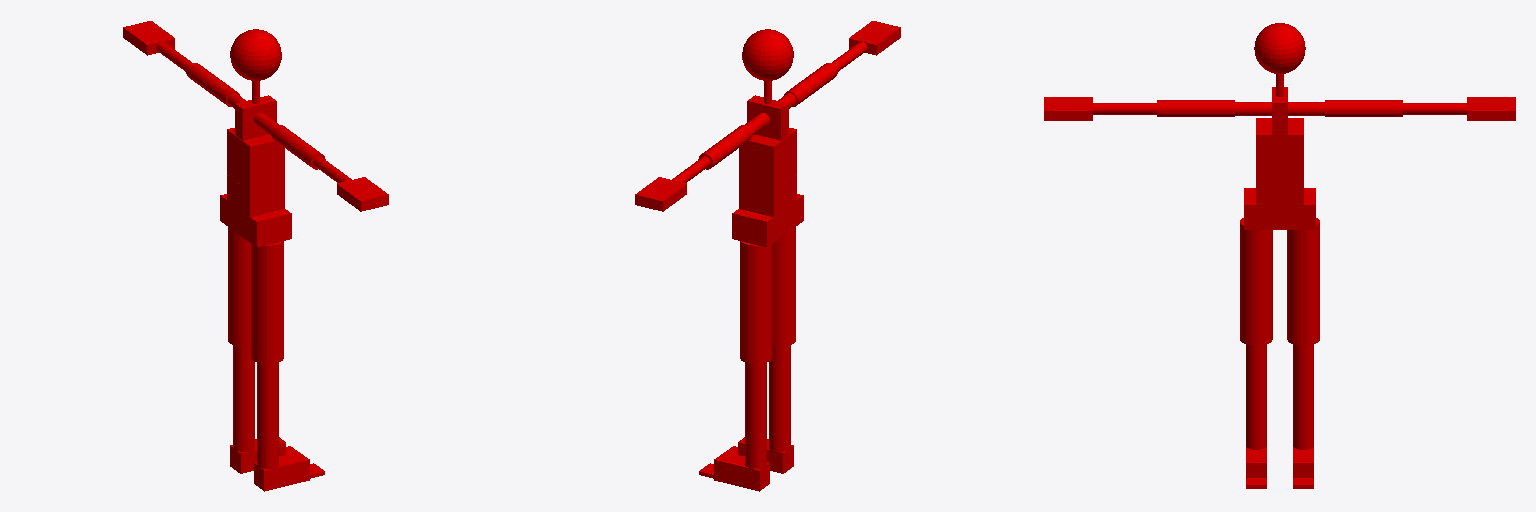
--- What the picture shows (computed from the rendered views, not written in the file) ---
Views: 3 orthographic renders of the robot side by side, from view 1: azimuth 30°, elevation 25°; view 2: azimuth 150°, elevation 25°; view 3: azimuth 270°, elevation 25°.
Robot: humanoid — 51 links, 50 joints (50 fixed); root link Pelvis; default pose: every joint at zero.
Links seen in each view (by area): view 1: RightUpperLeg, LeftUpperLeg, RightLowerLeg, LeftLowerLeg, Head, Pelvis, T12, L5, RightFoot, L3, T8, RightHand (+4 smaller); view 2: LeftUpperLeg, RightUpperLeg, LeftLowerLeg, RightLowerLeg, Head, Pelvis, T12, L5, LeftFoot, L3, T8, LeftHand (+4 smaller); view 3: RightUpperLeg, LeftUpperLeg, Pelvis, RightLowerLeg, LeftLowerLeg, Head, T12, RightUpperArm, LeftUpperArm, L5, RightHand, LeftHand (+6 smaller).
Boxes of the visible links, <box> form: RightUpperLeg: <box>251,241,283,363</box>; LeftUpperLeg: <box>228,227,250,346</box>; RightLowerLeg: <box>257,363,278,468</box>; LeftLowerLeg: <box>233,345,254,451</box>; Head: <box>230,29,281,80</box>; Pelvis: <box>220,194,291,247</box>; T12: <box>227,128,284,169</box>; L5: <box>227,175,284,216</box>; RightFoot: <box>254,452,309,491</box>; L3: <box>227,153,284,191</box>; T8: <box>235,95,276,140</box>; RightHand: <box>337,177,388,211</box>; LeftUpperLeg: <box>740,241,772,363</box>; RightUpperLeg: <box>773,227,795,346</box>; LeftLowerLeg: <box>745,363,766,468</box>; RightLowerLeg: <box>769,345,790,451</box>; Head: <box>742,29,793,80</box>; Pelvis: <box>732,194,803,247</box>; T12: <box>739,128,796,169</box>; L5: <box>739,175,796,216</box>; LeftFoot: <box>714,452,769,491</box>; L3: <box>739,153,796,191</box>; T8: <box>747,95,788,140</box>; LeftHand: <box>635,177,686,211</box>; RightUpperLeg: <box>1240,218,1272,345</box>; LeftUpperLeg: <box>1287,218,1319,345</box>; Pelvis: <box>1244,188,1315,229</box>; RightLowerLeg: <box>1246,345,1266,449</box>; LeftLowerLeg: <box>1293,345,1313,449</box>; Head: <box>1254,23,1305,73</box>; T12: <box>1256,118,1303,156</box>; RightUpperArm: <box>1157,100,1234,116</box>; LeftUpperArm: <box>1325,100,1402,116</box>; L5: <box>1256,180,1303,204</box>; RightHand: <box>1044,97,1092,120</box>; LeftHand: <box>1467,97,1515,120</box>.
Size in the robot's own frame: 0.2938 by 1.63 by 1.69 metres.
Geometry: primitives only (box / cylinder / sphere), no mesh files.

The robot description file, URDF, robot "humanoid":
<robot name="humanoid">

<material name="color">
    <color rgba="0.8980392156862745 0.0 0.0 1.0" />
</material>

<!--To open this model with Gazebo replace the null masses, inertias and dimensions of the 'fake links f1 and f2'-->
    <!--LINKS-->
	<!--Link base (1)-->
	<link name="Pelvis">
        <inertial>
            <mass value="0.04976"/>
			<!--COM origin wrt pHipOrigin-->
            <origin xyz="0           0    0.049743" rpy="0 0 0" />
            <inertia ixx="0.029678" iyy="0.011854" izz="0.033653" ixy="0" ixz="0" iyz="0"/>
        </inertial>

        <visual>
			<!--box origin wrt pHipOrigin-->
            <origin xyz="0           0    0.049743" rpy="0 0 0" />
            <geometry>
                <box size="0.13815     0.24914    0.097469"/>
            </geometry>
            <material name="color"/>
        </visual>

        <collision>
			<!--box origin wrt pHipOrigin-->
            <origin xyz="0           0    0.049743" rpy="0 0 0" />
            <geometry>
                <box size="0.13815     0.24914    0.097469"/>
            </geometry>
        </collision>

    </link>
    <!--Chain from (2) to (7)-->
	<link name="L5_f1">
        <inertial>
            <mass value="0"/>
            <origin xyz="0 0 0" rpy="0 0 0" />
            <inertia ixx="0" iyy="0" izz="0" ixy="0" ixz="0" iyz="0"/>
        </inertial>
    </link>
	<link name="L5">
        <inertial>
            <mass value="0.063444"/>
			<!--COM origin wrt jL5S1-->
            <origin xyz="0           0    0.047552" rpy="0 0 0" />
            <inertia ixx="0.018868" iyy="0.014872" izz="0.024177" ixy="0" ixz="0" iyz="0"/>
        </inertial>

        <visual>
			<!--box origin origin wrt jL5S1-->
            <origin xyz="0           0    0.047552" rpy="0 0 0" />
            <geometry>
                <box size="0.13815     0.16323    0.095104"/>
            </geometry>
            <material name="color"/>
        </visual>

        <collision>
			<!--box origin origin wrt jL5S1-->
            <origin xyz="0           0    0.047552" rpy="0 0 0" />
            <geometry>
                <box size="0.13815     0.16323    0.095104"/>
            </geometry>
        </collision>
    </link>
	<link name="L3_f1">
        <inertial>
            <mass value="0"/>
            <origin xyz="0 0 0" rpy="0 0 0" />
            <inertia ixx="0" iyy="0" izz="0" ixy="0" ixz="0" iyz="0"/>
        </inertial>
    </link>
	<link name="L3">
        <inertial>
            <mass value="0.063444"/>
			<!--COM origin wrt jL4L3-->
            <origin xyz="0           0    0.042958" rpy="0 0 0" />
            <inertia ixx="0.017989" iyy="0.013993" izz="0.024177" ixy="0" ixz="0" iyz="0"/>
        </inertial>

        <visual>
			<!--box origin origin wrt jL4L3-->
            <origin xyz="0           0    0.042958" rpy="0 0 0" />
            <geometry>
                <box size="0.13815     0.16323    0.085916"/>
            </geometry>
            <material name="color"/>
        </visual>

        <collision>
			<!--box origin origin wrt jL4L3-->
            <origin xyz="0           0    0.042958" rpy="0 0 0" />
            <geometry>
                <box size="0.13815     0.16323    0.085916"/>
            </geometry>
        </collision>
    </link>
	<link name="T12_f1">
        <inertial>
            <mass value="0"/>
            <origin xyz="0 0 0" rpy="0 0 0" />
            <inertia ixx="0" iyy="0" izz="0" ixy="0" ixz="0" iyz="0"/>
        </inertial>
    </link>
	<link name="T12">
        <inertial>
            <mass value="0.063444"/>
			<!--COM origin wrt jL1T12-->
            <origin xyz="0           0    0.042958" rpy="0 0 0" />
            <inertia ixx="0.017989" iyy="0.013993" izz="0.024177" ixy="0" ixz="0" iyz="0"/>
        </inertial>

        <visual>
			<!--box origin origin wrt jL1T12-->
            <origin xyz="0           0    0.042958" rpy="0 0 0" />
            <geometry>
                <box size="0.13815     0.16323    0.085916"/>
            </geometry>
            <material name="color"/>
        </visual>

        <collision>
			<!--box origin origin wrt jL1T12-->
            <origin xyz="0           0    0.042958" rpy="0 0 0" />
            <geometry>
                <box size="0.13815     0.16323    0.085916"/>
            </geometry>
        </collision>
    </link>
	<link name="T8_f1">
        <inertial>
            <mass value="0"/>
            <origin xyz="0 0 0" rpy="0 0 0" />
            <inertia ixx="0" iyy="0" izz="0" ixy="0" ixz="0" iyz="0"/>
        </inertial>
    </link>
	<link name="T8_f2">
        <inertial>
            <mass value="0"/>
            <origin xyz="0 0 0" rpy="0 0 0" />
            <inertia ixx="0" iyy="0" izz="0" ixy="0" ixz="0" iyz="0"/>
        </inertial>
    </link>
	<link name="T8">
        <inertial>
            <mass value="0.02488"/>
			<!--COM origin wrt jT9T8-->
            <origin xyz="0           0    0.059874" rpy="0 0 0" />
            <inertia ixx="0.0035473" iyy="0.0067278" izz="0.0043289" ixy="0" ixz="0" iyz="0"/>
        </inertial>

        <visual>
			<!--box origin wrt jT9T8-->
            <origin xyz="0           0    0.059874" rpy="0 0 0" />
            <geometry>
                <box size="0.13457    0.052626     0.11975"/>
            </geometry>
            <material name="color"/>
        </visual>

        <collision>
			<!--box origin wrt jT9T8-->
            <origin xyz="0           0    0.059874" rpy="0 0 0" />
            <geometry>
                <box size="0.13457    0.052626     0.11975"/>
            </geometry>
        </collision>

    </link>
	<link name="Neck_f1">
        <inertial>
            <mass value="0"/>
            <origin xyz="0 0 0" rpy="0 0 0" />
            <inertia ixx="0" iyy="0" izz="0" ixy="0" ixz="0" iyz="0"/>
        </inertial>
    </link>
	<link name="Neck_f2">
        <inertial>
            <mass value="0"/>
            <origin xyz="0 0 0" rpy="0 0 0" />
            <inertia ixx="0" iyy="0" izz="0" ixy="0" ixz="0" iyz="0"/>
        </inertial>
    </link>
	<link name="Neck">
        <inertial>
            <mass value="0.007464"/>
			<!--COM origin wrt jT1C7-->
            <origin xyz="0           0    0.044626" rpy="0 0 0" />
            <inertia ixx="0.0006461" iyy="0.0006461" izz="0.00030124" ixy="0" ixz="0" iyz="0"/>
        </inertial>

        <visual>
			<!--box origin wrt jT1C7-->
            <origin xyz="0           0    0.044626" rpy="0 0 0" />
            <geometry>
		<cylinder length="0.089252" radius="0.014205"/>
            </geometry>
            <material name="color"/>
        </visual>

        <collision>
			<!--box origin wrt jT1C7-->
            <origin xyz="0           0    0.044626" rpy="0 0 0" />
            <geometry>
                <cylinder length="0.089252" radius="0.014205"/>
            </geometry>
        </collision>
    </link>
	<link name="Head_f1">
        <inertial>
            <mass value="0"/>
            <origin xyz="0 0 0" rpy="0 0 0" />
            <inertia ixx="0" iyy="0" izz="0" ixy="0" ixz="0" iyz="0"/>
        </inertial>
    </link>
	<link name="Head">
        <inertial>
            <mass value="0.022392"/>
			<!--COM origin wrt jC1Head-->
            <origin xyz="0           0    0.089005" rpy="0 0 0" />
            <inertia ixx="0.0070955" iyy="0.0070955" izz="0.0070955" ixy="0" ixz="0" iyz="0"/>
        </inertial>

        <visual>
			<!--boc origin wrt jC1Head-->
            <origin xyz="0           0    0.089005" rpy="0 0 0" />
            <geometry>
                <sphere radius="0.089005"/>
            </geometry>
            <material name="color"/>
        </visual>

        <collision>
			<!--box origin wrt jC1Head-->
            <origin xyz="0           0    0.089005" rpy="0 0 0" />
            <geometry>
                <sphere radius="0.089005"/>
            </geometry>
        </collision>

    </link>
	<!--Chain from (8) to (11)-->
	<link name="RightShoulder">
        <inertial>
            <mass value="0.019282"/>
			<!--COM origin wrt jRightC7Shoulder-->
            <origin xyz="0   -0.065233           0" rpy="0 0 0" />
            <inertia ixx="0.0030029" iyy="0.00053578" izz="0.0030029" ixy="0" ixz="0" iyz="0"/>
        </inertial>

        <visual>
			<!--box origin wrt jRightC7Shoulder. RPY rotated of pi/2.-->
            <origin xyz="0   -0.065233           0" rpy="1.5708 0 0" />
            <geometry>
                <cylinder length="0.13047" radius="0.023574"/>
            </geometry>
            <material name="color"/>
        </visual>

        <collision>
			<!--box origin wrt jRightC7Shoulder. RPY rotated of pi/2.-->
            <origin xyz="0   -0.065233           0" rpy="1.5708 0 0" />
            <geometry>
                <cylinder length="0.13047" radius="0.023574"/>
            </geometry>
        </collision>

    </link>
	<link name="RightUpperArm_f1">
        <inertial>
            <mass value="0"/>
            <origin xyz="0 0 0" rpy="0 0 0" />
            <inertia ixx="0" iyy="0" izz="0" ixy="0" ixz="0" iyz="0"/>
        </inertial>
    </link>
	<link name="RightUpperArm_f2">
        <inertial>
            <mass value="0"/>
            <origin xyz="0 0 0" rpy="0 0 0" />
            <inertia ixx="0" iyy="0" izz="0" ixy="0" ixz="0" iyz="0"/>
        </inertial>
    </link>
    <link name="RightUpperArm">
        <inertial>
            <mass value="0.01866"/>
			<!--COM origin wrt jRightShoulder-->
            <origin xyz="0    -0.13497           0" rpy="0 0 0" />
            <inertia ixx="0.011736" iyy="0.00080917" izz="0.011736" ixy="0" ixz="0" iyz="0"/>
        </inertial>

        <visual>
			<!--box origin wrt jRightShoulder. RPY rotated of pi/2.-->
            <origin xyz="0    -0.13497           0" rpy="1.5708 0 0" />
            <geometry>
                <cylinder length="0.26994" radius="0.029449"/>
            </geometry>
            <material name="color"/>
        </visual>

        <collision>
			<!--box origin wrt jRightShoulder. RPY rotated of pi/2.-->
            <origin xyz="0    -0.13497           0" rpy="1.5708 0 0" />
            <geometry>
                <cylinder length="0.26994" radius="0.029449"/>
            </geometry>
        </collision>

    </link>
	<link name="RightForeArm_f1">
        <inertial>
            <mass value="0"/>
            <origin xyz="0 0 0" rpy="0 0 0" />
            <inertia ixx="0" iyy="0" izz="0" ixy="0" ixz="0" iyz="0"/>
        </inertial>
    </link>
	<link name="RightForeArm">
        <inertial>
            <mass value="0.01244"/>
			<!--COM origin wrt jRightElbow-->
            <origin xyz="0    -0.11124           0" rpy="0 0 0" />
            <inertia ixx="0.0052508" iyy="0.00023975" izz="0.0052508" ixy="0" ixz="0" iyz="0"/>
        </inertial>

        <visual>
			<!--box origin wrt jRightElbow. RPY rotated of pi/2.-->
            <origin xyz="0    -0.11124           0" rpy="1.5708 0 0" />
            <geometry>
                <cylinder length="0.22247" radius="0.019633"/>
            </geometry>
            <material name="color"/>
        </visual>

        <collision>
			<!--box origin wrt jRightElbow. RPY rotated of pi/2.-->
            <origin xyz="0    -0.11124           0" rpy="1.5708 0 0" />
            <geometry>
                <cylinder length="0.22247" radius="0.019633"/>
            </geometry>
        </collision>

    </link>
	<link name="RightHand_f1">
        <inertial>
            <mass value="0"/>
            <origin xyz="0 0 0" rpy="0 0 0" />
            <inertia ixx="0" iyy="0" izz="0" ixy="0" ixz="0" iyz="0"/>
        </inertial>
    </link>
	<link name="RightHand">
        <inertial>
            <mass value="0.003732"/>
			<!--COM origin wrt jRightWrist-->
            <origin xyz="0   -0.083588           0" rpy="0 0 0" />
            <inertia ixx="0.00091713" iyy="0.00043425" izz="0.0012555" ixy="0" ixz="0" iyz="0"/>
        </inertial>

        <visual>
			<!--box origin wrt jRightWrist-->
            <origin xyz="0   -0.083588           0" rpy="0 0 0" />
            <geometry>
                <box size="0.11145     0.16718    0.039266"/>
            </geometry>
            <material name="color"/>
        </visual>

        <collision>
			<!--box origin wrt jRightWrist-->
            <origin xyz="0   -0.083588           0" rpy="0 0 0" />
            <geometry>
                <box size="0.11145     0.16718    0.039266"/>
            </geometry>
        </collision>

    </link>
    <link name="RightHandCOM">
        <inertial>
            <mass value="0.0000001"/>
            <origin xyz="0 0 0" rpy="0 0 0" />
            <inertia ixx="0" iyy="0" izz="0" ixy="0" ixz="0" iyz="0"/>
        </inertial>
        <visual>
            <!--box origin wrt jRightWrist-->
            <origin xyz="0   0           0" rpy="0 0 0" />
            <geometry>
                <box size="0     0    0"/>
            </geometry>
            <material name="color"/>
        </visual>
    </link>
	<!--Chain from (12) to (15)-->
	<link name="LeftShoulder">
        <inertial>
            <mass value="0.019282"/>
			<!--COM origin wrt jLeftC7Shoulder-->
            <origin xyz="0    0.065233           0" rpy="0 0 0" />
            <inertia ixx="0.0030029" iyy="0.00053578" izz="0.0030029" ixy="0" ixz="0" iyz="0"/>
        </inertial>

        <visual>
			<!--box origin wrt jLeftC7Shoulder. RPY rotated of pi/2.-->
            <origin xyz="0    0.065233           0" rpy="1.5708 0 0" />
            <geometry>
                <cylinder length="0.13047" radius="0.023574"/>
            </geometry>
            <material name="color"/>
        </visual>

        <collision>
			<!--box origin wrt jLeftC7Shoulder. RPY rotated of pi/2.-->
            <origin xyz="0    0.065233           0" rpy="1.5708 0 0" />
            <geometry>
                <cylinder length="0.13047" radius="0.023574"/>
            </geometry>
        </collision>

    </link>
	<link name="LeftUpperArm_f1">
        <inertial>
            <mass value="0"/>
            <origin xyz="0 0 0" rpy="0 0 0" />
            <inertia ixx="0" iyy="0" izz="0" ixy="0" ixz="0" iyz="0"/>
        </inertial>
    </link>
	<link name="LeftUpperArm_f2">
        <inertial>
            <mass value="0"/>
            <origin xyz="0 0 0" rpy="0 0 0" />
            <inertia ixx="0" iyy="0" izz="0" ixy="0" ixz="0" iyz="0"/>
        </inertial>
    </link>
	<link name="LeftUpperArm">
        <inertial>
            <mass value="0.01866"/>
			<!--COM origin wrt jLeftShoulder-->
            <origin xyz="0     0.13497           0" rpy="0 0 0" />
            <inertia ixx="0.011736" iyy="0.00080917" izz="0.011736" ixy="0" ixz="0" iyz="0"/>
        </inertial>

        <visual>
			<!--box origin wrt jLeftShoulder. RPY rotated of pi/2.-->
            <origin xyz="0     0.13497           0" rpy="1.5708 0 0" />
            <geometry>
                <cylinder length="0.26994" radius="0.029449"/>
            </geometry>
            <material name="color"/>
        </visual>

        <collision>
			<!--box origin wrt jLeftShoulder. RPY rotated of pi/2.-->
            <origin xyz="0     0.13497           0" rpy="1.5708 0 0" />
            <geometry>
                <cylinder length="0.26994" radius="0.029449"/>
            </geometry>
        </collision>

    </link>
	<link name="LeftForeArm_f1">
        <inertial>
            <mass value="0"/>
            <origin xyz="0 0 0" rpy="0 0 0" />
            <inertia ixx="0" iyy="0" izz="0" ixy="0" ixz="0" iyz="0"/>
        </inertial>
    </link>
	<link name="LeftForeArm">
        <inertial>
            <mass value="0.01244"/>
			<!--COM origin wrt jLeftElbow-->
            <origin xyz="0     0.11124           0" rpy="0 0 0" />
            <inertia ixx="0.0052508" iyy="0.00023975" izz="0.0052508" ixy="0" ixz="0" iyz="0"/>
        </inertial>

        <visual>
			<!--box origin wrt jLeftElbow. RPY rotated of pi/2.-->
            <origin xyz="0     0.11124           0" rpy="1.5708 0 0" />
            <geometry>
                <cylinder length="0.22247" radius="0.019633"/>
            </geometry>
            <material name="color"/>
        </visual>

        <collision>
			<!--box origin wrt jLeftElbow. RPY rotated of pi/2.-->
            <origin xyz="0     0.11124           0" rpy="1.5708 0 0" />
            <geometry>
                <cylinder length="0.22247" radius="0.019633"/>
            </geometry>
        </collision>

    </link>
	<link name="LeftHand_f1">
        <inertial>
            <mass value="0"/>
            <origin xyz="0 0 0" rpy="0 0 0" />
            <inertia ixx="0" iyy="0" izz="0" ixy="0" ixz="0" iyz="0"/>
        </inertial>
    </link>
	<link name="LeftHand">
        <inertial>
            <mass value="0.003732"/>
			<!--COM origin wrt jLeftWrist-->
            <origin xyz="0    0.083588           0" rpy="0 0 0" />
            <inertia ixx="0.00091713" iyy="0.00043425" izz="0.0012555" ixy="0" ixz="0" iyz="0"/>
        </inertial>

        <visual>
			<!--COM origin wrt jLeftWrist-->
            <origin xyz="0    0.083588           0" rpy="0 0 0" />
            <geometry>
                <box size="0.11145     0.16718    0.039266"/>
            </geometry>
            <material name="color"/>
        </visual>

        <collision>
			<!--COM origin wrt jLeftWrist-->
            <origin xyz="0    0.083588           0" rpy="0 0 0" />
            <geometry>
                <box size="0.11145     0.16718    0.039266"/>
            </geometry>
        </collision>

    </link>
    <link name="LeftHandCOM">
        <inertial>
            <mass value="0.0000001"/>
            <origin xyz="0 0 0" rpy="0 0 0" />
            <inertia ixx="0" iyy="0" izz="0" ixy="0" ixz="0" iyz="0"/>
        </inertial>
        <visual>
            <!--COM origin wrt jLeftWrist-->
            <origin xyz="0    0           0" rpy="0 0 0" />
            <geometry>
                <box size="0     0    0"/>
            </geometry>
            <material name="color"/>
        </visual>
    </link>
	<!--Chain from (16) to (19)-->
	<link name="RightUpperLeg_f1">
        <inertial>
            <mass value="0"/>
            <origin xyz="0 0 0" rpy="0 0 0" />
            <inertia ixx="0" iyy="0" izz="0" ixy="0" ixz="0" iyz="0"/>
        </inertial>
    </link>
	<link name="RightUpperLeg_f2">
        <inertial>
            <mass value="0"/>
            <origin xyz="0 0 0" rpy="0 0 0" />
            <inertia ixx="0" iyy="0" izz="0" ixy="0" ixz="0" iyz="0"/>
        </inertial>
    </link>
    <link name="RightUpperLeg">
        <inertial>
            <mass value="0.07775"/>
			<!--COM origin wrt jRightHip-->
            <origin xyz="0           0    -0.22449" rpy="0 0 0" />
            <inertia ixx="0.13681" iyy="0.13681" izz="0.01241" ixy="0" ixz="0" iyz="0"/>
        </inertial>

        <visual>
			<!--box origin wrt jRightHip-->
            <origin xyz="0           0    -0.22449" rpy="0 0 0" />
            <geometry>
                <cylinder length="0.44898" radius="0.0565"/>
            </geometry>
            <material name="color"/>
        </visual>

        <collision>
			<!--box origin wrt jRightHip-->
            <origin xyz="0           0    -0.22449" rpy="0 0 0" />
            <geometry>
                <cylinder length="0.44898" radius="0.0565"/>
            </geometry>
        </collision>

    </link>
	<link name="RightLowerLeg_f1">
        <inertial>
            <mass value="0"/>
            <origin xyz="0 0 0" rpy="0 0 0" />
            <inertia ixx="0" iyy="0" izz="0" ixy="0" ixz="0" iyz="0"/>
        </inertial>
    </link>
    <link name="RightLowerLeg">
        <inertial>
            <mass value="0.022703"/>
			<!--COM origin wrt jRightKnee-->
            <origin xyz="0           0    -0.20304" rpy="0 0 0" />
            <inertia ixx="0.031992" iyy="0.031992" izz="0.0015867" ixy="0" ixz="0" iyz="0"/>
        </inertial>

        <visual>
			<!--box origin wrt jRightKnee-->
            <origin xyz="0           0    -0.20304" rpy="0 0 0" />
            <geometry>
                <cylinder length="0.40608" radius="0.037388"/>
            </geometry>
            <material name="color"/>
        </visual>

        <collision>
			<!--box origin wrt jRightKnee-->
            <origin xyz="0           0    -0.20304" rpy="0 0 0" />
            <geometry>
                <cylinder length="0.40608" radius="0.037388"/>
            </geometry>
        </collision>

    </link>
	<link name="RightFoot_f1">
        <inertial>
            <mass value="0"/>
            <origin xyz="0 0 0" rpy="0 0 0" />
            <inertia ixx="0" iyy="0" izz="0" ixy="0" ixz="0" iyz="0"/>
        </inertial>
    </link>
	<link name="RightFoot_f2">
        <inertial>
            <mass value="0"/>
            <origin xyz="0 0 0" rpy="0 0 0" />
            <inertia ixx="0" iyy="0" izz="0" ixy="0" ixz="0" iyz="0"/>
        </inertial>
    </link>
    <link name="RightFoot">
        <inertial>
            <mass value="0.008086"/>
			<!--COM origin wrt jRightAnkle-->
            <origin xyz="0.054652           0   -0.039254" rpy="0 0 0" />
            <inertia ixx="0.00079209" iyy="0.0025944" izz="0.0025558" ixy="0" ixz="0" iyz="0"/>
        </inertial>

        <visual>
			<!--box origin wrt jRightAnkle-->
	    	<origin xyz="0.054652           0   -0.039254" rpy="0 0 0" />
            <geometry>
                <box size="0.17983    0.074775    0.078509"/>
            </geometry>
            <material name="color"/>
        </visual>

        <collision>
			<!--box origin wrt jRightAnkle-->
		    <origin xyz="0.054652           0   -0.039254" rpy="0 0 0" />
	            <geometry>
	                <box size="0.17983    0.074775    0.078509"/>
	            </geometry>
        </collision>

    </link>
    <link name="RightToe">
        <inertial>
            <mass value="0.000933"/>
			<!--COM origin wrt jRightBallFoot-->
            <origin xyz="0.030086           0           0" rpy="0 0 0" />
            <inertia ixx="4.5038e-05" iyy="2.9717e-05" izz="7.1624e-05" ixy="0" ixz="0" iyz="0"/>
        </inertial>

        <visual>
			<!--box origin wrt jRightBallFoot-->
            <origin xyz="0.030086           0           0" rpy="0 0 0" />
            <geometry>
                <box size="0.060173    0.074775    0.014191"/>
            </geometry>
            <material name="color"/>
        </visual>

        <collision>
			<!--box origin wrt jRightBallFoot-->
            <origin xyz="0.030086           0           0" rpy="0 0 0" />
            <geometry>
                <box size="0.060173    0.074775    0.014191"/>
            </geometry>
        </collision>
    </link>
	<!--Chain from (20) to (23)-->
	<link name="LeftUpperLeg_f1">
        <inertial>
            <mass value="0"/>
            <origin xyz="0 0 0" rpy="0 0 0" />
            <inertia ixx="0" iyy="0" izz="0" ixy="0" ixz="0" iyz="0"/>
        </inertial>
    </link>
	<link name="LeftUpperLeg_f2">
        <inertial>
            <mass value="0"/>
            <origin xyz="0 0 0" rpy="0 0 0" />
            <inertia ixx="0" iyy="0" izz="0" ixy="0" ixz="0" iyz="0"/>
        </inertial>
    </link>
    <link name="LeftUpperLeg">
        <inertial>
            <mass value="0.07775"/>
			<!--COM origin wrt jLeftHip-->
            <origin xyz="0           0    -0.22449" rpy="0 0 0" />
            <inertia ixx="0.13681" iyy="0.13681" izz="0.01241" ixy="0" ixz="0" iyz="0"/>
        </inertial>

        <visual>
			<!--box origin wrt jLeftHip-->
            <origin xyz="0           0    -0.22449" rpy="0 0 0" />
            <geometry>
                <cylinder length="0.44898" radius="0.0565"/>
            </geometry>
            <material name="color"/>
        </visual>

        <collision>
			<!--box origin wrt jLeftHip-->
            <origin xyz="0           0    -0.22449" rpy="0 0 0" />
            <geometry>
                <cylinder length="0.44898" radius="0.0565"/>
            </geometry>
        </collision>

    </link>
	<link name="LeftLowerLeg_f1">
        <inertial>
            <mass value="0"/>
            <origin xyz="0 0 0" rpy="0 0 0" />
            <inertia ixx="0" iyy="0" izz="0" ixy="0" ixz="0" iyz="0"/>
        </inertial>
    </link>
	<link name="LeftLowerLeg">
        <inertial>
            <mass value="0.022703"/>
			<!--COM origin wrt jLeftKnee-->
            <origin xyz="0           0    -0.20304" rpy="0 0 0" />
            <inertia ixx="0.031992" iyy="0.031992" izz="0.0015867" ixy="0" ixz="0" iyz="0"/>
        </inertial>

        <visual>
			<!--box origin wrt jLeftKnee-->
            <origin xyz="0           0    -0.20304" rpy="0 0 0" />
            <geometry>
		<cylinder length="0.40608" radius="0.037388"/>
            </geometry>
            <material name="color"/>
        </visual>

        <collision>
			<!--box origin wrt jLeftKnee-->
            <origin xyz="0           0    -0.20304" rpy="0 0 0" />
            <geometry>
		<cylinder length="0.40608" radius="0.037388"/>
            </geometry>
        </collision>

    </link>
	<link name="LeftFoot_f1">
        <inertial>
            <mass value="0"/>
            <origin xyz="0 0 0" rpy="0 0 0" />
            <inertia ixx="0" iyy="0" izz="0" ixy="0" ixz="0" iyz="0"/>
        </inertial>
    </link>
	<link name="LeftFoot_f2">
        <inertial>
            <mass value="0"/>
            <origin xyz="0 0 0" rpy="0 0 0" />
            <inertia ixx="0" iyy="0" izz="0" ixy="0" ixz="0" iyz="0"/>
        </inertial>
    </link>
    <link name="LeftFoot">
        <inertial>
            <mass value="0.008086"/>
			<!--COM origin wrt jLeftAnkle-->
            <origin xyz="0.054652           0   -0.039254" rpy="0 0 0" />
            <inertia ixx="0.00079209" iyy="0.0025944" izz="0.0025558" ixy="0" ixz="0" iyz="0"/>
        </inertial>

        <visual>
			<!--box origin wrt jLeftAnkle-->
	   	 	<origin xyz="0.054652           0   -0.039254" rpy="0 0 0" />
            <geometry>
                <box size="0.17983    0.074775    0.078509"/>
            </geometry>
            <material name="color"/>
        </visual>

        <collision>
			<!--box origin wrt jLeftAnkle-->
		    <origin xyz="0.054652           0   -0.039254" rpy="0 0 0" />
	            <geometry>
	                <box size="0.17983    0.074775    0.078509"/>
	            </geometry>
        </collision>

    </link>
	<link name="LeftToe">
        <inertial>
            <mass value="0.000933"/>
			<!--COM origin wrt jLeftBallFoot-->
            <origin xyz="0.030086           0           0" rpy="0 0 0" />
            <inertia ixx="4.5038e-05" iyy="2.9717e-05" izz="7.1624e-05" ixy="0" ixz="0" iyz="0"/>
        </inertial>

        <visual>
			<!--box origin wrt jLeftBallFoot-->
            <origin xyz="0.030086           0           0" rpy="0 0 0" />
            <geometry>
                <box size="0.060173    0.074775    0.014191"/>
            </geometry>
            <material name="color"/>
        </visual>

        <collision>
			<!--box origin wrt jLeftBallFoot-->
            <origin xyz="0.030086           0           0" rpy="0 0 0" />
            <geometry>
                <box size="0.060173    0.074775    0.014191"/>
            </geometry>
        </collision>
    </link>


	<!--JOINTS-->
	<!--Chain from (2) to (7)-->
	<joint name="jL5S1_rotx" type="fixed">
        <origin xyz="-0.000206           0    0.098478" rpy="0 0 0"/>
        <parent link="Pelvis"/>
        <child link="L5_f1"/>
        <dynamics damping="0.1" friction="0.0"/>
        <limit effort="30" velocity="1.0" lower="-0.610865" upper="0.610865" />
        <axis xyz="1 0 0" />
    </joint>
	<joint name="jL5S1_roty" type="fixed">
        <origin xyz="0 0 0" rpy="0 0 0"/>
        <parent link="L5_f1"/>
        <child link="L5"/>
        <dynamics damping="0.1" friction="0.0"/>
        <limit effort="30" velocity="1.0" lower="-0.523599" upper="1.309" />
        <axis xyz="0 1 0" />
    </joint>
	<joint name="jL4L3_rotx" type="fixed">
        <origin xyz="0.000374           0    0.095104" rpy="0 0 0"/>
        <parent link="L5"/>
        <child link="L3_f1"/>
        <dynamics damping="0.1" friction="0.0"/>
        <limit effort="30" velocity="1.0" lower="-0.610865" upper="0.610865" />
        <axis xyz="1 0 0" />
    </joint>
	<joint name="jL4L3_roty" type="fixed">
        <origin xyz="0 0 0" rpy="0 0 0"/>
        <parent link="L3_f1"/>
        <child link="L3"/>
        <dynamics damping="0.1" friction="0.0"/>
        <limit effort="30" velocity="1.0" lower="-0.523599" upper="1.309" />
        <axis xyz="0 1 0" />
    </joint>
	<joint name="jL1T12_rotx" type="fixed">
        <origin xyz="0           0    0.085916" rpy="0 0 0"/>
        <parent link="L3"/>
        <child link="T12_f1"/>
        <dynamics damping="0.1" friction="0.0"/>
        <limit effort="30" velocity="1.0" lower="-0.610865" upper="0.610865" />
        <axis xyz="1 0 0" />
    </joint>
	<joint name="jL1T12_roty" type="fixed">
        <origin xyz="0 0 0" rpy="0 0 0"/>
        <parent link="T12_f1"/>
        <child link="T12"/>
        <dynamics damping="0.1" friction="0.0"/>
        <limit effort="30" velocity="1.0" lower="-0.523599" upper="1.309" />
        <axis xyz="0 1 0" />
    </joint>
	<joint name="jT9T8_rotx" type="fixed">
        <origin xyz="0           0    0.085916" rpy="0 0 0"/>
        <parent link="T12"/>
        <child link="T8_f1"/>
        <dynamics damping="0.1" friction="0.0"/>
        <limit effort="30" velocity="1.0" lower="-0.349066" upper="0.349066" />
        <axis xyz="1 0 0" />
    </joint>
	<joint name="jT9T8_roty" type="fixed">
        <origin xyz="0 0 0" rpy="0 0 0"/>
        <parent link="T8_f1"/>
        <child link="T8_f2"/>
        <dynamics damping="0.1" friction="0.0"/>
        <limit effort="30" velocity="1.0" lower="-0.261799" upper="0.698132" />
        <axis xyz="0 1 0" />
    </joint>
    <joint name="jT9T8_rotz" type="fixed">
        <origin xyz="0 0 0" rpy="0 0 0"/>
        <parent link="T8_f2"/>
        <child link="T8"/>
        <dynamics damping="0.1" friction="0.0"/>
        <limit effort="30" velocity="1.0" lower="-0.610865" upper="0.610865" />
        <axis xyz="0 0 1" />
    </joint>
	<joint name="jT1C7_rotx" type="fixed">
        <origin xyz="0           0     0.11975" rpy="0 0 0"/>
        <parent link="T8"/>
        <child link="Neck_f1"/>
        <dynamics damping="0.1" friction="0.0"/>
        <limit effort="30" velocity="1.0" lower="-0.610865" upper="0.610865" />
        <axis xyz="1 0 0" />
    </joint>
	<joint name="jT1C7_roty" type="fixed">
        <origin xyz="0 0 0" rpy="0 0 0"/>
        <parent link="Neck_f1"/>
        <child link="Neck_f2"/>
        <dynamics damping="0.1" friction="0.0"/>
        <limit effort="30" velocity="1.0" lower="-0.959931" upper="1.5708" />
        <axis xyz="0 1 0" />
    </joint>
    <joint name="jT1C7_rotz" type="fixed">
        <origin xyz="0 0 0" rpy="0 0 0"/>
        <parent link="Neck_f2"/>
        <child link="Neck"/>
        <dynamics damping="0.1" friction="0.0"/>
        <limit effort="30" velocity="1.0" lower="-1.22173" upper="1.22173" />
        <axis xyz="0 0 1" />
    </joint>
	<joint name="jC1Head_rotx" type="fixed">
        <origin xyz="0.000152           0    0.089252" rpy="0 0 0"/>
        <parent link="Neck"/>
        <child link="Head_f1"/>
        <dynamics damping="0.1" friction="0.0"/>
        <limit effort="30" velocity="1.0" lower="-0.610865" upper="0.610865" />
        <axis xyz="1 0 0" />
    </joint>
	<joint name="jC1Head_roty" type="fixed">
        <origin xyz="0 0 0" rpy="0 0 0"/>
        <parent link="Head_f1"/>
        <child link="Head"/>
        <dynamics damping="0.1" friction="0.0"/>
        <limit effort="30" velocity="1.0" lower="-0.436332" upper="0.174533" />
        <axis xyz="0 1 0" />
    </joint>
	<!--Chain from (8) to (11)-->
	<joint name="jRightC7Shoulder_rotx" type="fixed">
        <origin xyz="0   -0.026313    0.067052" rpy="0 0 0"/>
        <parent link="T8"/>
        <child link="RightShoulder"/>
        <dynamics damping="0.1" friction="0.0"/>
        <limit effort="30" velocity="1.0" lower="-0.785398" upper="0.0872665" />
        <axis xyz="1 0 0" />
    </joint>
	<joint name="jRightShoulder_rotx" type="fixed">
        <origin xyz="0    -0.13047           0" rpy="0 0 0"/>
        <parent link="RightShoulder"/>
        <child link="RightUpperArm_f1"/>
        <dynamics damping="0.1" friction="0.0"/>
        <limit effort="30" velocity="1.0" lower="-2.35619" upper="1.5708" />
        <axis xyz="1 0 0" />
    </joint>
	<joint name="jRightShoulder_roty" type="fixed">
        <origin xyz="0 0 0" rpy="0 0 0"/>
        <parent link="RightUpperArm_f1"/>
        <child link="RightUpperArm_f2"/>
        <dynamics damping="0.1" friction="0.0"/>
        <limit effort="30" velocity="1.0" lower="-1.5708" upper="1.5708" />
        <axis xyz="0 1 0" />
    </joint>
    <joint name="jRightShoulder_rotz" type="fixed">
        <origin xyz="0 0 0" rpy="0 0 0"/>
        <parent link="RightUpperArm_f2"/>
        <child link="RightUpperArm"/>
        <dynamics damping="0.1" friction="0.0"/>
        <limit effort="30" velocity="1.0" lower="-0.785398" upper="3.14159" />
        <axis xyz="0 0 1" />
    </joint>
	<joint name="jRightElbow_roty" type="fixed">
        <origin xyz="0    -0.26994           0" rpy="0 0 0"/>
        <parent link="RightUpperArm"/>
        <child link="RightForeArm_f1"/>
        <dynamics damping="0.1" friction="0.0"/>
        <limit effort="30" velocity="1.0" lower="-1.5708" upper="1.48353" />
        <axis xyz="0 1 0" />
    </joint>
	<joint name="jRightElbow_rotz" type="fixed">
        <origin xyz="0 0 0" rpy="0 0 0"/>
        <parent link="RightForeArm_f1"/>
        <child link="RightForeArm"/>
        <dynamics damping="0.1" friction="0.0"/>
        <limit effort="30" velocity="1.0" lower="0" upper="2.53073" />
        <axis xyz="0 0 1" />
    </joint>
	<joint name="jRightWrist_rotx" type="fixed">
        <origin xyz="7.7e-05    -0.22247           0" rpy="0 0 0"/>
        <parent link="RightForeArm"/>
        <child link="RightHand_f1"/>
        <dynamics damping="0.1" friction="0.0"/>
        <limit effort="30" velocity="1.0" lower="-0.872665" upper="1.0472" />
        <axis xyz="1 0 0" />
    </joint>
	<joint name="jRightWrist_rotz" type="fixed">
        <origin xyz="0 0 0" rpy="0 0 0"/>
        <parent link="RightHand_f1"/>
        <child link="RightHand"/>
        <dynamics damping="0.1" friction="0.0"/>
        <limit effort="30" velocity="1.0" lower="-0.523599" upper="0.349066" />
        <axis xyz="0 0 1" />
    </joint>
    <joint name="jRightHandCOM" type="fixed">
        <origin xyz="0 -0.096206 0" rpy="0 0 0"/>
        <parent link="RightHand"/>
        <child link="RightHandCOM"/>
        <axis xyz="0 0 0" />
    </joint>
	<!--Chain from (12) to (15)-->
	<joint name="jLeftC7Shoulder_rotx" type="fixed">
        <origin xyz="0    0.026313    0.067052" rpy="0 0 0"/>
        <parent link="T8"/>
        <child link="LeftShoulder"/>
        <dynamics damping="0.1" friction="0.0"/>
        <limit effort="30" velocity="1.0" lower="-0.0872665" upper="0.785398" />
        <axis xyz="1 0 0" />
    </joint>
	<joint name="jLeftShoulder_rotx" type="fixed">
        <origin xyz="0     0.13047           0" rpy="0 0 0"/>
        <parent link="LeftShoulder"/>
        <child link="LeftUpperArm_f1"/>
        <dynamics damping="0.1" friction="0.0"/>
        <limit effort="30" velocity="1.0" lower="-1.5708" upper="2.35619" />
        <axis xyz="1 0 0" />
    </joint>
	<joint name="jLeftShoulder_roty" type="fixed">
        <origin xyz="0 0 0" rpy="0 0 0"/>
        <parent link="LeftUpperArm_f1"/>
        <child link="LeftUpperArm_f2"/>
        <dynamics damping="0.1" friction="0.0"/>
        <limit effort="30" velocity="1.0" lower="-1.5708" upper="1.5708" />
        <axis xyz="0 1 0" />
    </joint>
    <joint name="jLeftShoulder_rotz" type="fixed">
        <origin xyz="0 0 0" rpy="0 0 0"/>
        <parent link="LeftUpperArm_f2"/>
        <child link="LeftUpperArm"/>
        <dynamics damping="0.1" friction="0.0"/>
        <limit effort="30" velocity="1.0" lower="-3.14159" upper="0.785398" />
        <axis xyz="0 0 1" />
    </joint>
    <joint name="jLeftElbow_roty" type="fixed">
        <origin xyz="0     0.26994           0" rpy="0 0 0"/>
        <parent link="LeftUpperArm"/>
        <child link="LeftForeArm_f1"/>
        <dynamics damping="0.1" friction="0.0"/>
        <limit effort="30" velocity="1.0" lower="-1.5708" upper="1.48353" />
        <axis xyz="0 1 0" />
    </joint>
    <joint name="jLeftElbow_rotz" type="fixed">
        <origin xyz="0 0 0" rpy="0 0 0"/>
        <parent link="LeftForeArm_f1"/>
        <child link="LeftForeArm"/>
        <dynamics damping="0.1" friction="0.0"/>
        <limit effort="30" velocity="1.0" lower="-2.53073" upper="0" />
        <axis xyz="0 0 1" />
    </joint>
	<joint name="jLeftWrist_rotx" type="fixed">
        <origin xyz="7.7e-05     0.22247           0" rpy="0 0 0"/>
        <parent link="LeftForeArm"/>
        <child link="LeftHand_f1"/>
        <dynamics damping="0.1" friction="0.0"/>
        <limit effort="30" velocity="1.0" lower="-1.0472" upper="0.872665" />
        <axis xyz="1 0 0" />
    </joint>
	<joint name="jLeftWrist_rotz" type="fixed">
        <origin xyz="0 0 0" rpy="0 0 0"/>
        <parent link="LeftHand_f1"/>
        <child link="LeftHand"/>
        <dynamics damping="0.1" friction="0.0"/>
        <limit effort="30" velocity="1.0" lower="-0.349066" upper="0.523599" />
        <axis xyz="0 0 1" />
    </joint>
    <joint name="jLeftHandCOM" type="fixed">
        <origin xyz="0 0.096206 0" rpy="0 0 0"/>
        <parent link="LeftHand"/>
        <child link="LeftHandCOM"/>
        <axis xyz="0 0 0" />
    </joint>
	<!--Chain from (16) to (19)-->
	<joint name="jRightHip_rotx" type="fixed">
        <origin xyz="0.000103   -0.081614    0.001009" rpy="0 0 0"/>
        <parent link="Pelvis"/>
        <child link="RightUpperLeg_f1"/>
        <dynamics damping="0.1" friction="0.0"/>
        <limit effort="30" velocity="1.0" lower="-0.785398" upper="0.523599" />
        <axis xyz="1 0 0" />
    </joint>
	<joint name="jRightHip_roty" type="fixed">
        <origin xyz="0 0 0" rpy="0 0 0"/>
        <parent link="RightUpperLeg_f1"/>
        <child link="RightUpperLeg_f2"/>
        <dynamics damping="0.1" friction="0.0"/>
        <limit effort="30" velocity="1.0" lower="-2.0944" upper="0.261799" />
        <axis xyz="0 1 0" />
    </joint>
    <joint name="jRightHip_rotz" type="fixed">
        <origin xyz="0 0 0" rpy="0 0 0"/>
        <parent link="RightUpperLeg_f2"/>
        <child link="RightUpperLeg"/>
        <dynamics damping="0.1" friction="0.0"/>
        <limit effort="30" velocity="1.0" lower="-0.785398" upper="0.785398" />
        <axis xyz="0 0 1" />
    </joint>
	<joint name="jRightKnee_roty" type="fixed">
        <origin xyz="3.6e-05           0    -0.44898" rpy="0 0 0"/>
        <parent link="RightUpperLeg"/>
        <child link="RightLowerLeg_f1"/>
        <dynamics damping="0.1" friction="0.0"/>
        <limit effort="30" velocity="1.0" lower="0" upper="2.35619" />
        <axis xyz="0 1 0" />
    </joint>
	<joint name="jRightKnee_rotz" type="fixed">
        <origin xyz="0 0 0" rpy="0 0 0"/>
        <parent link="RightLowerLeg_f1"/>
        <child link="RightLowerLeg"/>
        <dynamics damping="0.1" friction="0.0"/>
        <limit effort="30" velocity="1.0" lower="-0.698132" upper="0.523599" />
        <axis xyz="0 0 1" />
    </joint>
	<joint name="jRightAnkle_rotx" type="fixed">
        <origin xyz="0.000205           0    -0.40608" rpy="0 0 0"/>
        <parent link="RightLowerLeg"/>
        <child link="RightFoot_f1"/>
        <dynamics damping="0.1" friction="0.0"/>
        <limit effort="30" velocity="1.0" lower="-0.610865" upper="0.785398" />
        <axis xyz="1 0 0" />
    </joint>
	<joint name="jRightAnkle_roty" type="fixed">
        <origin xyz="0 0 0" rpy="0 0 0"/>
        <parent link="RightFoot_f1"/>
        <child link="RightFoot_f2"/>
        <dynamics damping="0.1" friction="0.0"/>
        <limit effort="30" velocity="1.0" lower="-0.523599" upper="0.872665" />
        <axis xyz="0 1 0" />
    </joint>
    <joint name="jRightAnkle_rotz" type="fixed">
        <origin xyz="0 0 0" rpy="0 0 0"/>
        <parent link="RightFoot_f2"/>
        <child link="RightFoot"/>
        <dynamics damping="0.1" friction="0.0"/>
        <limit effort="30" velocity="1.0" lower="-0.436332" upper="0.872665" />
        <axis xyz="0 0 1" />
    </joint>
	<joint name="jRightBallFoot_roty" type="fixed">
        <origin xyz="0.14456           0   -0.064752" rpy="0 0 0"/>
        <parent link="RightFoot"/>
        <child link="RightToe"/>
        <dynamics damping="0.1" friction="0.0"/>
        <limit effort="30" velocity="1.0" lower="-0.174533" upper="1.5708" />
        <axis xyz="0 1 0" />
    </joint>
	<!--Chain from (20) to (23)-->
	<joint name="jLeftHip_rotx" type="fixed">
        <origin xyz="0.000103    0.081614    0.001009" rpy="0 0 0"/>
        <parent link="Pelvis"/>
        <child link="LeftUpperLeg_f1"/>
        <dynamics damping="0.1" friction="0.0"/>
        <limit effort="30" velocity="1.0" lower="-0.523599" upper="0.785398" />
        <axis xyz="1 0 0" />
    </joint>
	<joint name="jLeftHip_roty" type="fixed">
        <origin xyz="0 0 0" rpy="0 0 0"/>
        <parent link="LeftUpperLeg_f1"/>
        <child link="LeftUpperLeg_f2"/>
        <dynamics damping="0.1" friction="0.0"/>
        <limit effort="30" velocity="1.0" lower="-2.0944" upper="0.261799" />
        <axis xyz="0 1 0" />
    </joint>
    <joint name="jLeftHip_rotz" type="fixed">
        <origin xyz="0 0 0" rpy="0 0 0"/>
        <parent link="LeftUpperLeg_f2"/>
        <child link="LeftUpperLeg"/>
        <dynamics damping="0.1" friction="0.0"/>
        <limit effort="30" velocity="1.0" lower="-0.785398" upper="0.785398" />
        <axis xyz="0 0 1" />
    </joint>
	<joint name="jLeftKnee_roty" type="fixed">
        <origin xyz="3.6e-05           0    -0.44898" rpy="0 0 0"/>
        <parent link="LeftUpperLeg"/>
        <child link="LeftLowerLeg_f1"/>
        <dynamics damping="0.1" friction="0.0"/>
        <limit effort="30" velocity="1.0" lower="0" upper="2.35619" />
        <axis xyz="0 1 0" />
    </joint>
    <joint name="jLeftKnee_rotz" type="fixed">
        <origin xyz="0 0 0" rpy="0 0 0"/>
        <parent link="LeftLowerLeg_f1"/>
        <child link="LeftLowerLeg"/>
        <dynamics damping="0.1" friction="0.0"/>
        <limit effort="30" velocity="1.0" lower="-0.523599" upper="0.698132" />
        <axis xyz="0 0 1" />
    </joint>
	<joint name="jLeftAnkle_rotx" type="fixed">
        <origin xyz="0.000205           0    -0.40608" rpy="0 0 0"/>
        <parent link="LeftLowerLeg"/>
        <child link="LeftFoot_f1"/>
        <dynamics damping="0.1" friction="0.0"/>
        <limit effort="30" velocity="1.0" lower="-0.785398" upper="0.610865" />
        <axis xyz="1 0 0" />
    </joint>
	<joint name="jLeftAnkle_roty" type="fixed">
        <origin xyz="0 0 0" rpy="0 0 0"/>
        <parent link="LeftFoot_f1"/>
        <child link="LeftFoot_f2"/>
        <dynamics damping="0.1" friction="0.0"/>
        <limit effort="30" velocity="1.0" lower="-0.523599" upper="0.872665" />
        <axis xyz="0 1 0" />
    </joint>
    <joint name="jLeftAnkle_rotz" type="fixed">
        <origin xyz="0 0 0" rpy="0 0 0"/>
        <parent link="LeftFoot_f2"/>
        <child link="LeftFoot"/>
        <dynamics damping="0.1" friction="0.0"/>
        <limit effort="30" velocity="1.0" lower="-0.872665" upper="0.436332" />
        <axis xyz="0 0 1" />
    </joint>
	<joint name="jLeftBallFoot_roty" type="fixed">
        <origin xyz="0.14456           0   -0.064752" rpy="0 0 0"/>
        <parent link="LeftFoot"/>
        <child link="LeftToe"/>
        <dynamics damping="0.1" friction="0.0"/>
        <limit effort="30" velocity="1.0" lower="-0.174533" upper="1.5708" />
        <axis xyz="0 1 0" />
    </joint>

</robot>
